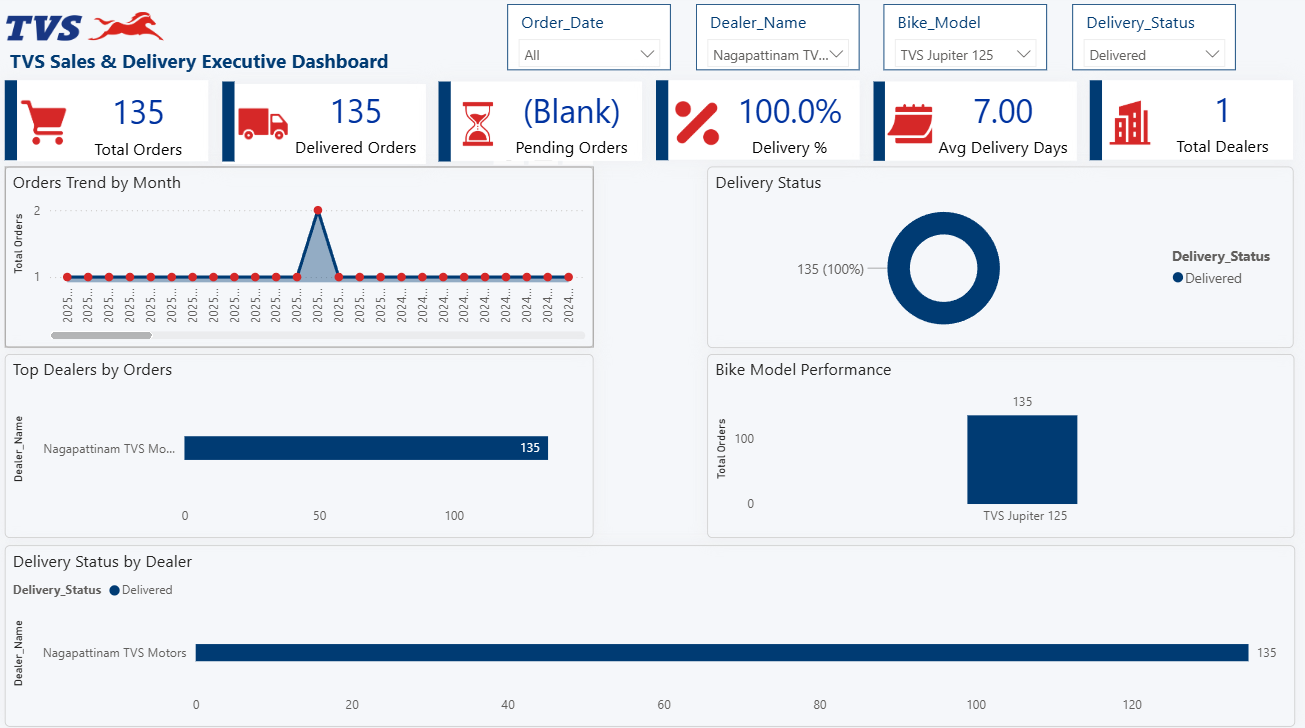

The dashboard page shown, as its layout file describes it:
{"tool":"powerbi","page":{"name":"Executive Dashboard","canvas":[1280,720],"ordinal":0},"visuals":[{"type":"image","box":[9.8,2.4,154.1,58.7],"z":0},{"type":"textbox","box":[8.6,47.7,382.7,40.4],"z":1000},{"type":"shape","box":[645.8,84.2,199.1,77.9],"z":2000,"group":"g4"},{"type":"shape","box":[1071.9,84.2,197.7,77.9],"z":2000,"group":"g6"},{"type":"shape","box":[433.4,85.6,199.1,77.9],"z":2000,"group":"g3"},{"type":"lineChart","title":"Orders Trend by Month","fields":{"Category":["orders.Order_Date"],"Y":["orders.Total Orders"]},"box":[8.2,169.2,576,177.3],"z":2000},{"type":"group","id":"g1","title":"Group 1","box":[8.7,84.2,199.6,80],"z":3000,"group":"g7"},{"type":"shape","box":[1070.6,84.6,12.2,78.3],"z":3000,"group":"g6"},{"type":"donutChart","title":"Delivery Status","fields":{"Category":["orders.Delivery_Status"],"Y":["CountNonNull(orders.Order_ID)"]},"box":[695.4,169.2,573.5,177.3],"z":3000},{"type":"group","id":"g2","title":"Group 2","box":[221.1,85.6,199.1,80.8],"z":3500,"group":"g7"},{"type":"card","fields":{"Values":["orders.Total Dealers"]},"box":[1132.5,84.2,135.6,79.4],"z":4000,"group":"g6"},{"type":"group","id":"g3","title":"Group 3","box":[433.4,85.6,199.1,79.4],"z":4000,"group":"g7"},{"type":"barChart","title":"Top Dealers by Orders","fields":{"Category":["orders.Dealer_Name"],"Y":["orders.Total Orders"]},"box":[8.2,352.8,576,179.8],"z":4000},{"type":"shape","title":"Shape 5","box":[859.4,86.1,197.9,77.4],"z":4500,"group":"g5"},{"type":"shape","box":[645.8,84.2,12.2,78.3],"z":5000,"group":"g4"},{"type":"group","id":"g4","title":"Group 4","box":[645.8,84.2,199.1,80.8],"z":5000,"group":"g7"},{"type":"shape","title":"rectangle","box":[858.2,85.6,11.6,77.7],"z":5000,"group":"g5"},{"type":"image","box":[1084.5,102.2,51.4,46.5],"z":5000,"group":"g6"},{"type":"clusteredColumnChart","title":"Bike Model Performance","fields":{"Category":["orders.Bike_Model"],"Y":["orders.Total Orders"]},"box":[695.4,352.8,574.7,179.8],"z":5000},{"type":"shape","box":[433.4,85.6,12.2,78.3],"z":6000,"group":"g3"},{"type":"group","id":"g5","title":"Group 5","box":[858.2,85.6,199.1,79.4],"z":6000,"group":"g7"},{"type":"card","fields":{"Values":["orders.Avg Delivery Days"]},"box":[915.4,86.1,139.2,78.8],"z":6000,"group":"g5"},{"type":"barChart","title":"Delivery Status by Dealer","fields":{"Category":["orders.Dealer_Name"],"Series":["orders.Delivery_Status"],"Y":["orders.Total Orders"]},"box":[8.7,539.6,1262.4,177.5],"z":6000},{"type":"slicer","fields":{"Values":["orders.Order_Date"]},"box":[500.1,9.8,160.2,64.8],"z":7000},{"type":"group","id":"g6","title":"Group 6","box":[1070.6,84.2,199.1,79.4],"z":7000,"group":"g7"},{"type":"image","box":[870.8,104,48,46.2],"z":7000,"group":"g5"},{"type":"shape","title":"Shape 1","box":[9,84.2,199.1,79.4],"z":7500,"group":"g1"},{"type":"group","id":"g7","title":"Group 7","box":[8.7,84.2,1261,82.2],"z":8000},{"type":"shape","title":"rectangle","box":[8.7,84.7,12.2,78.3],"z":8000,"group":"g1"},{"type":"card","fields":{"Values":["orders.Delivery %"]},"box":[707.8,85.6,137.1,79.4],"z":8000,"group":"g4"},{"type":"shape","title":"Shape 2","box":[221.1,87.6,199.3,78.3],"z":8500,"group":"g2"},{"type":"slicer","fields":{"Values":["orders.Dealer_Name"]},"box":[684.4,9.8,160.2,64.8],"z":9000},{"type":"shape","title":"rectangle","box":[221.6,85.6,12.2,78.3],"z":9000,"group":"g2"},{"type":"image","box":[660.6,103.7,51.4,46.5],"z":9000,"group":"g4"},{"type":"slicer","fields":{"Values":["orders.Delivery_Status"]},"box":[1052.9,9.8,160.2,64.8],"z":10000},{"type":"card","fields":{"Values":["orders.Pending Orders"]},"box":[494,85.6,138.5,79.4],"z":10000,"group":"g3"},{"type":"slicer","fields":{"Values":["orders.Bike_Model"]},"box":[868.6,9.8,160.2,64.8],"z":11000},{"type":"image","box":[446.8,103.9,51.4,46.5],"z":11000,"group":"g3"},{"type":"card","fields":{"Values":["orders.Total Orders"]},"box":[71.3,89.6,137,74.6],"z":14000,"group":"g1"},{"type":"image","box":[23.6,102.6,51,46],"z":15000,"group":"g1"},{"type":"card","fields":{"Values":["orders.Delivered Orders"]},"box":[284,85.6,137,79.5],"z":16000,"group":"g2"},{"type":"image","box":[236.3,103.7,51.4,46.5],"z":17000,"group":"g2"}]}

Visuals, with their boxes in screenshot pixels (x1, y1, x2, y2), scaled from the page's 1280x720 canvas onto the 1305x728 screenshot:
image: region(10, 2, 167, 62)
textbox: region(9, 48, 399, 89)
shape: region(658, 85, 861, 164)
shape: region(1093, 85, 1294, 164)
shape: region(442, 87, 645, 165)
"Orders Trend by Month" lineChart: region(8, 171, 596, 350)
"Group 1" group: region(9, 85, 212, 166)
shape: region(1092, 86, 1104, 165)
"Delivery Status" donutChart: region(709, 171, 1294, 350)
"Group 2" group: region(225, 87, 428, 168)
card - orders.Total Dealers: region(1155, 85, 1293, 165)
"Group 3" group: region(442, 87, 645, 167)
"Top Dealers by Orders" barChart: region(8, 357, 596, 539)
"Shape 5" shape: region(876, 87, 1078, 165)
shape: region(658, 85, 671, 164)
"Group 4" group: region(658, 85, 861, 167)
"rectangle" shape: region(875, 87, 887, 165)
image: region(1106, 103, 1158, 150)
"Bike Model Performance" clusteredColumnChart: region(709, 357, 1295, 539)
shape: region(442, 87, 454, 166)
"Group 5" group: region(875, 87, 1078, 167)
card - orders.Avg Delivery Days: region(933, 87, 1075, 167)
"Delivery Status by Dealer" barChart: region(9, 546, 1296, 725)
slicer - orders.Order_Date: region(510, 10, 673, 75)
"Group 6" group: region(1092, 85, 1294, 165)
image: region(888, 105, 937, 152)
"Shape 1" shape: region(9, 85, 212, 165)
"Group 7" group: region(9, 85, 1294, 168)
"rectangle" shape: region(9, 86, 21, 165)
card - orders.Delivery %: region(722, 87, 861, 167)
"Shape 2" shape: region(225, 89, 429, 168)
slicer - orders.Dealer_Name: region(698, 10, 861, 75)
"rectangle" shape: region(226, 87, 238, 166)
image: region(674, 105, 726, 152)
slicer - orders.Delivery_Status: region(1073, 10, 1237, 75)
card - orders.Pending Orders: region(504, 87, 645, 167)
slicer - orders.Bike_Model: region(886, 10, 1049, 75)
image: region(456, 105, 508, 152)
card - orders.Total Orders: region(73, 91, 212, 166)
image: region(24, 104, 76, 150)
card - orders.Delivered Orders: region(290, 87, 429, 167)
image: region(241, 105, 293, 152)
